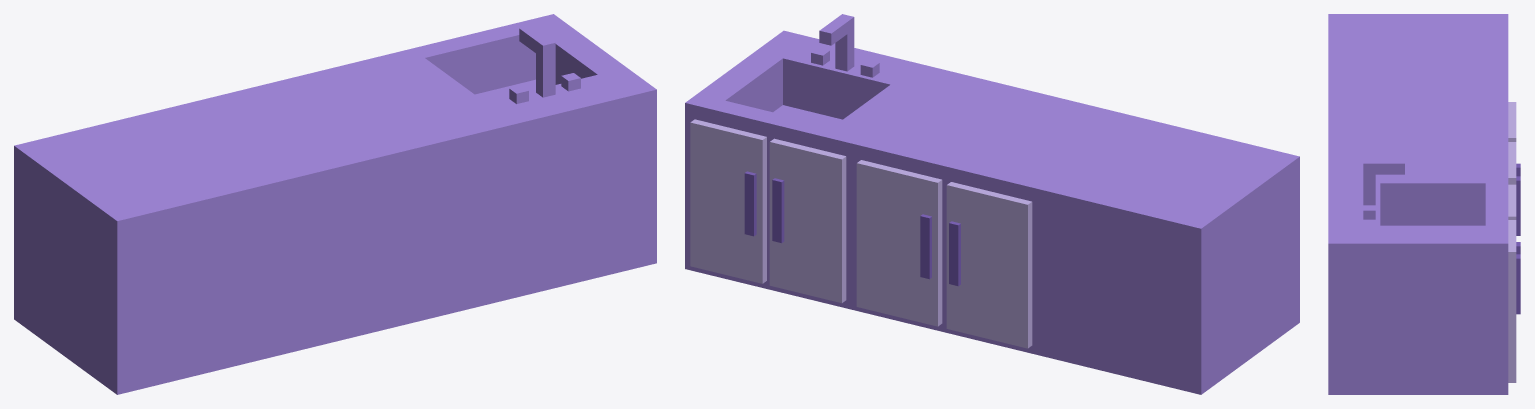
The model's file is lavabo.fbx.
3 renders of one model, left to right at view 1: azimuth 30°, elevation 25°; view 2: azimuth 150°, elevation 25°; view 3: azimuth 270°, elevation 25°, orthographic. The views are drawn at different scales.
Visible parts, largest first — view 1: lavabo; view 2: lavabo; view 3: lavabo.
Boxes of the visible parts, x1=… form: lavabo: x1=14, y1=14, x2=656, y2=394; lavabo: x1=685, y1=14, x2=1299, y2=394; lavabo: x1=1328, y1=14, x2=1520, y2=394.
Bounding box in the file's own units: 751 × 300 × 266.
